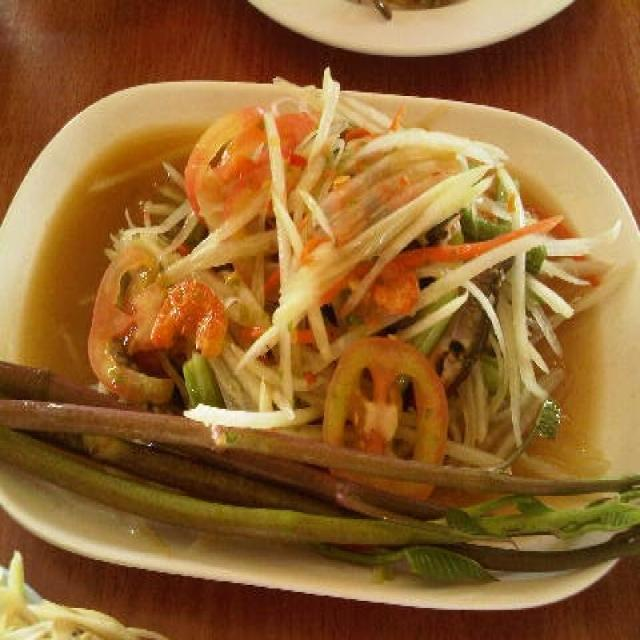蔬菜料理: (28, 45, 629, 599)
